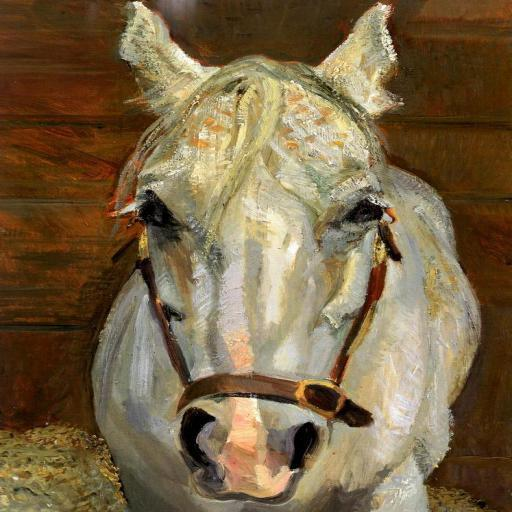horse: (88, 0, 481, 512)
